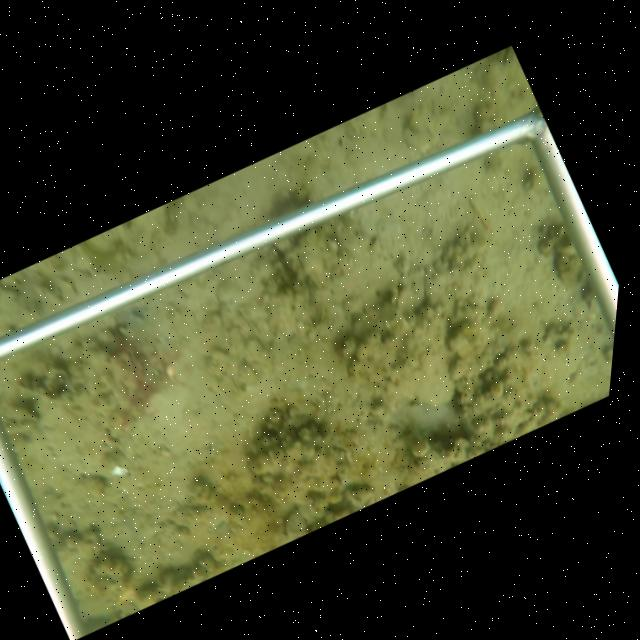Oyster-Indeterminate: (458, 342, 558, 448)
